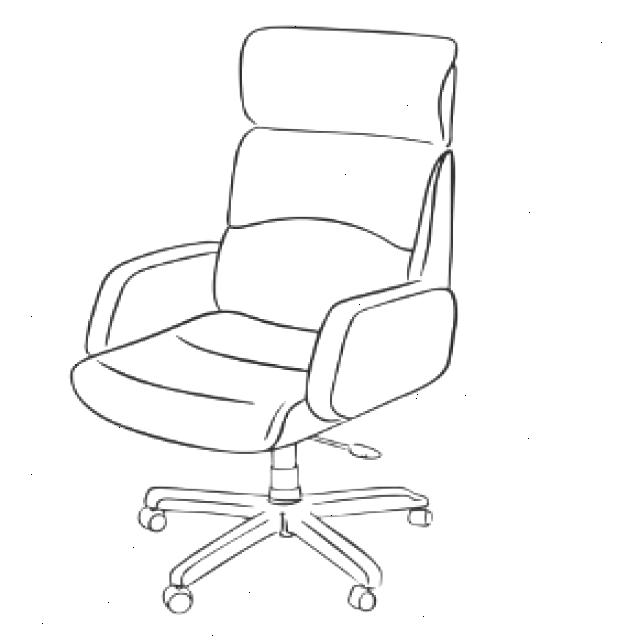5_Star_Base: (134, 465, 438, 618)
Armrest: (305, 151, 457, 424), (83, 240, 220, 355)
Backrest: (212, 25, 459, 330)
Control_Mechanism: (306, 435, 384, 461)
Seat: (70, 309, 336, 454)
